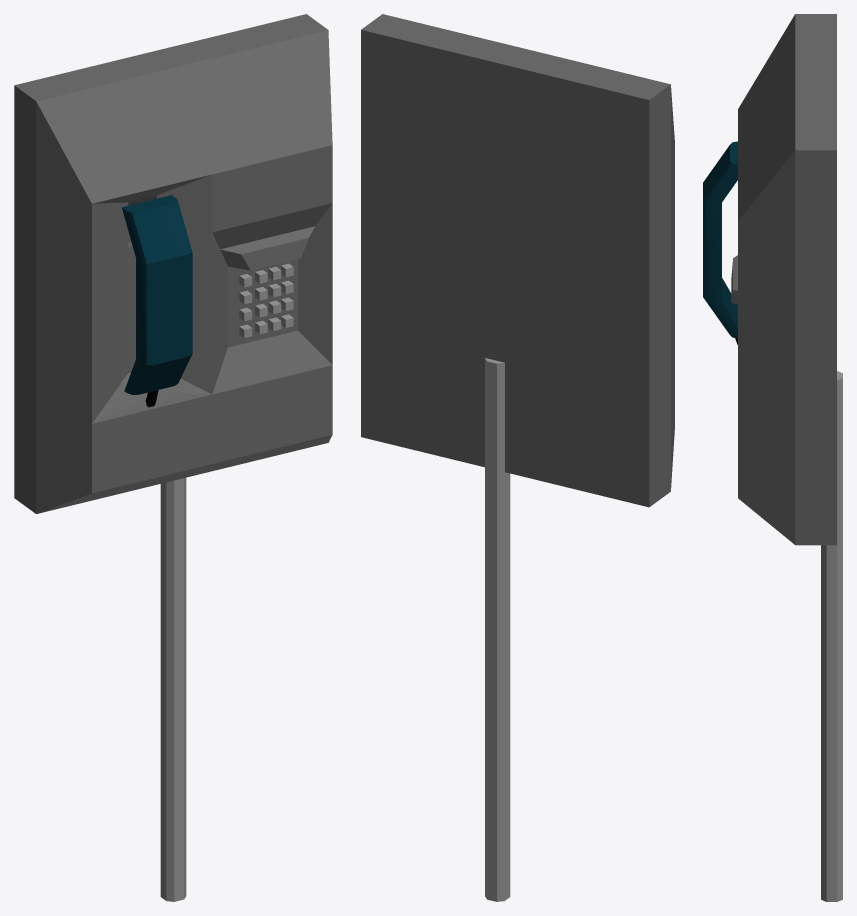
Rendered from Telefon_Kiosk.fbx.
3 views of the same model, side by side, from view 1: azimuth 30°, elevation 25°; view 2: azimuth 150°, elevation 25°; view 3: azimuth 270°, elevation 25° (orthographic). The views are drawn at different scales.
Parts seen in each view (by area): view 1: Telefon_Kiosk; view 2: Telefon_Kiosk; view 3: Telefon_Kiosk.
Part boxes in pixels (<box>): Telefon_Kiosk: <box>14,14,332,901</box>; Telefon_Kiosk: <box>361,14,674,901</box>; Telefon_Kiosk: <box>703,14,842,901</box>.
Size of the model in its own units: 1.59 by 4.39 by 0.6877.
